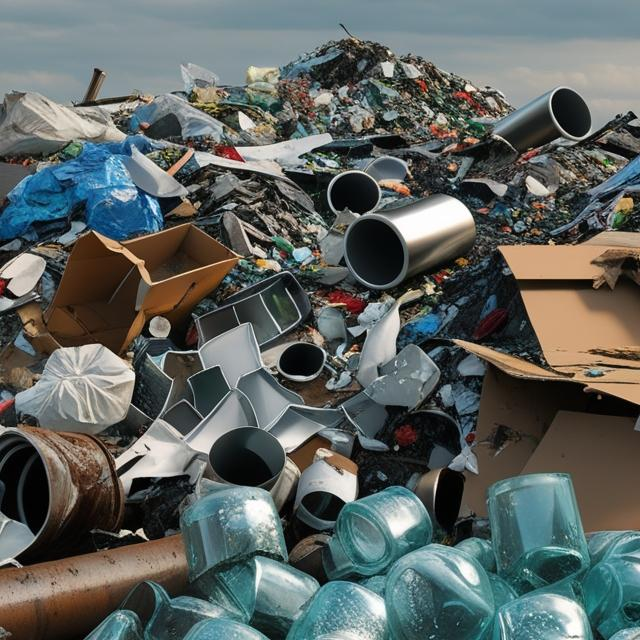metal: (338, 170, 469, 292)
plastic: (0, 152, 161, 240)
